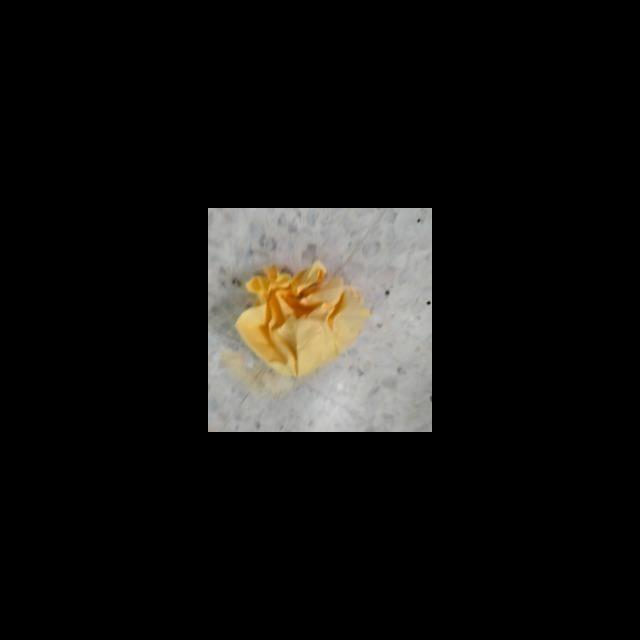paper: (235, 259, 372, 384)
